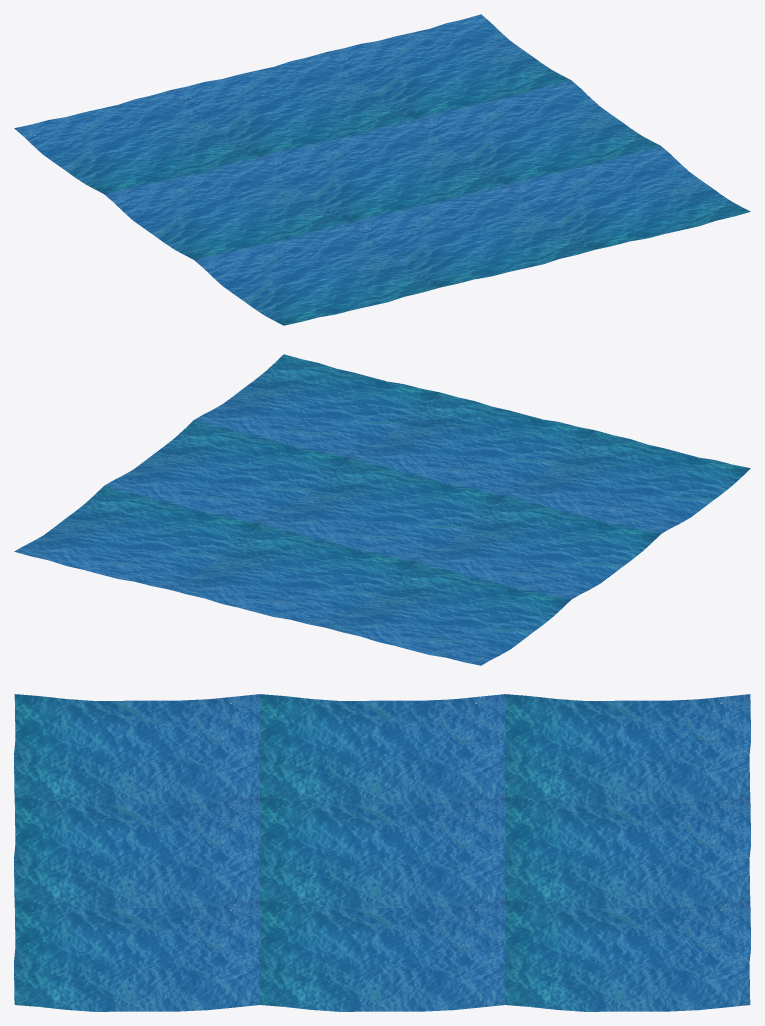
Rendered from ocean_000002.obj.
3 renders of one model, top to bottom at view 1: azimuth 30°, elevation 25°; view 2: azimuth 150°, elevation 25°; view 3: azimuth 270°, elevation 25°, orthographic. The views are drawn at different scales.
Parts seen in each view (by area): view 1: Ocean_Plan.001; view 2: Ocean_Plan.001; view 3: Ocean_Plan.001.
Boxes of the visible parts, bbox=[...] form: Ocean_Plan.001: bbox=[14, 14, 750, 325]; Ocean_Plan.001: bbox=[14, 354, 750, 665]; Ocean_Plan.001: bbox=[14, 694, 750, 1011].
Size of the model in its own units: 109165 by 1223 by 109163.
1 material, 1 textured.
